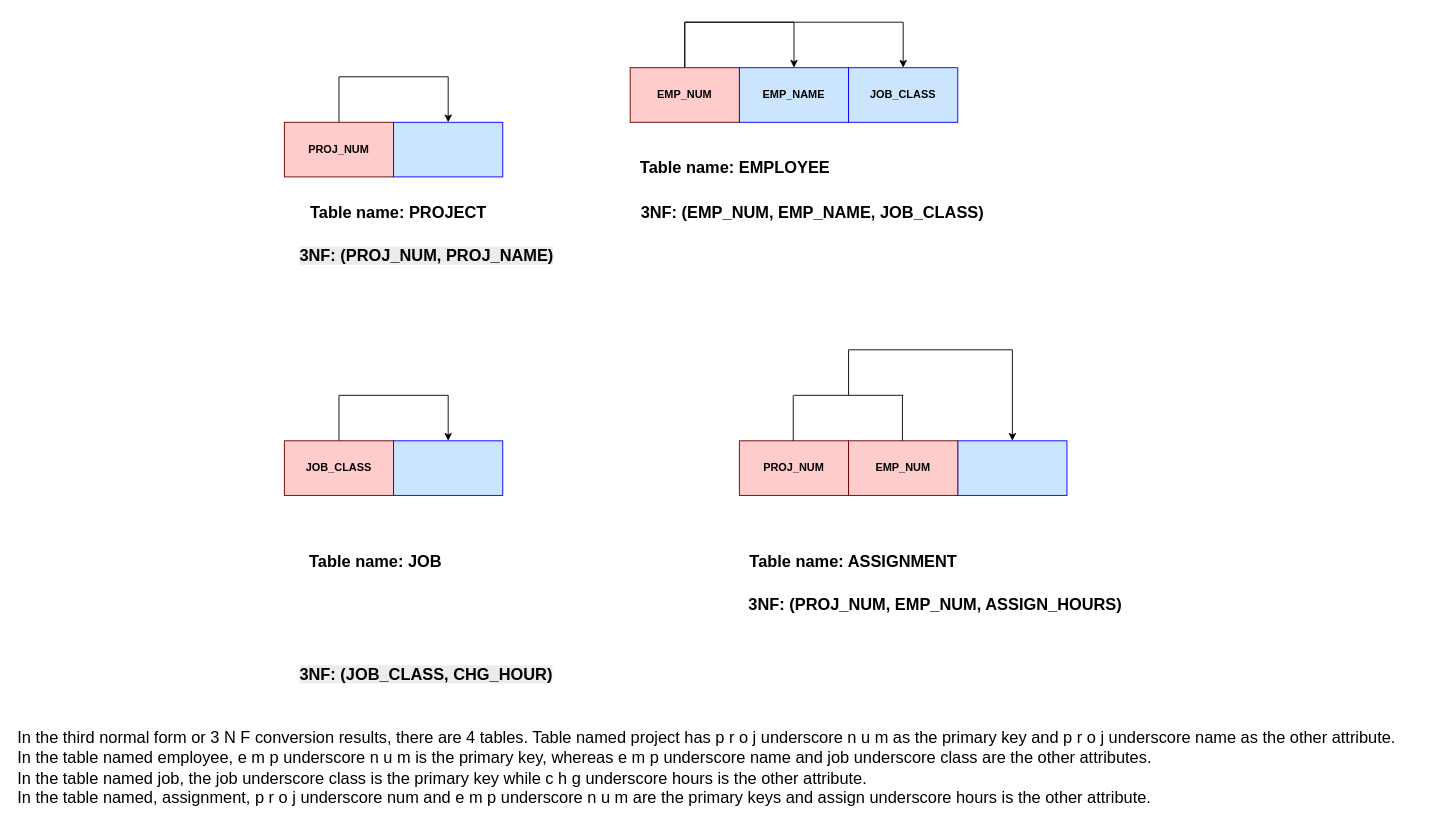
Some shapes in this 1432 by 830 pixel diagram are drawn without their labels. Here are the shapes that lost their labels. From the top down, the centre of each, then its label:
At [448,149]: "PROJ_NAME".
At [448,467]: "CHG_HOUR".
At [1012,467]: "ASSIGN_HOURS".
